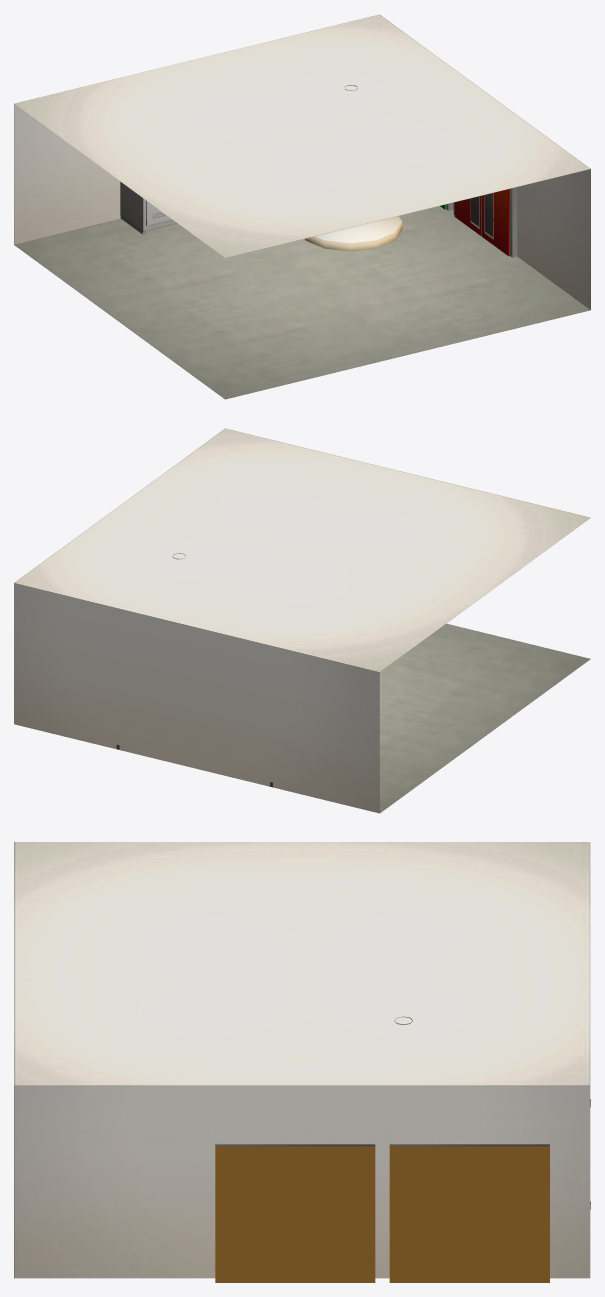
Rendered from RoomDressing.fbx.
3 renders of one model, top to bottom at view 1: azimuth 30°, elevation 25°; view 2: azimuth 150°, elevation 25°; view 3: azimuth 270°, elevation 25°, orthographic. The views are drawn at different scales.
Parts seen in each view (by area): view 1: RoomDressingroom, DoorExit, Locker; view 2: RoomDressingroom; view 3: RoomDressingroom.
Part boxes in pixels (x1,y1,x2,y2): RoomDressingroom: (14,14,590,399); DoorExit: (440,189,509,256); Locker: (120,182,177,234); RoomDressingroom: (14,428,590,813); RoomDressingroom: (14,842,590,1282).
Bounding box in the file's own units: 65.42 × 24.31 × 64.92.
3 materials, 3 textured.
